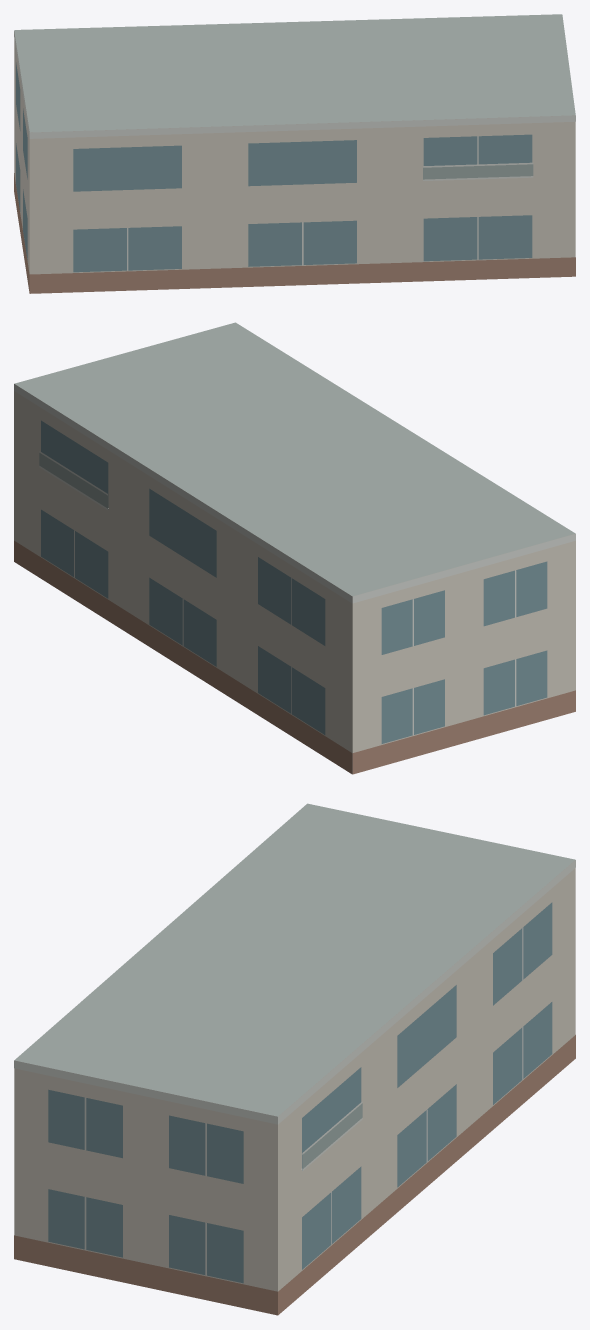
File: survey-upis-32886660.glb
The picture shows the model from 3 angles, top to bottom: view 1: azimuth 30°, elevation 25°; view 2: azimuth 150°, elevation 25°; view 3: azimuth 270°, elevation 25°; orthographic projection. The views are drawn at different scales.
Parts seen in each view (by area): view 1: survey-upis-32886660.tmp; view 2: survey-upis-32886660.tmp; view 3: survey-upis-32886660.tmp.
Part boxes in pixels (bbox=[...]): survey-upis-32886660.tmp: bbox=[14, 14, 575, 293]; survey-upis-32886660.tmp: bbox=[14, 322, 575, 774]; survey-upis-32886660.tmp: bbox=[14, 803, 575, 1315].
Size of the model in its own units: 20.62 by 6.1 by 15.63.
